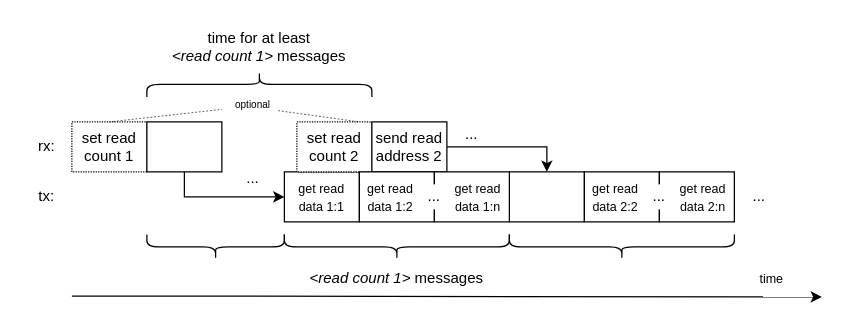
This 854x329 diagram has some shape labels left out. Each missing label, with the box of its shape:
<read count 2> messages: (508, 233, 734, 259)
get read data 2:1: (508, 171, 584, 222)
read latency: (146, 233, 284, 259)
send read address 1: (146, 121, 222, 172)
